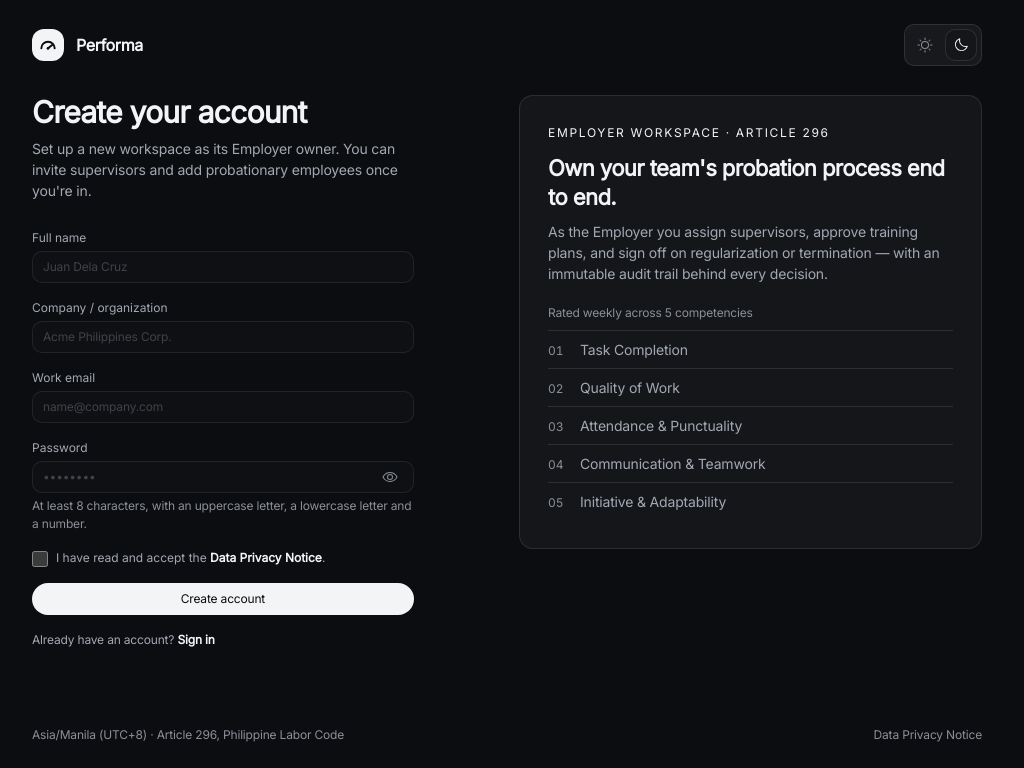
Test: Register › shows an alert when registration is rejected
Type "Nadia Founder" into the field labelled "Full name" at (223, 267), box [32, 251, 414, 283]
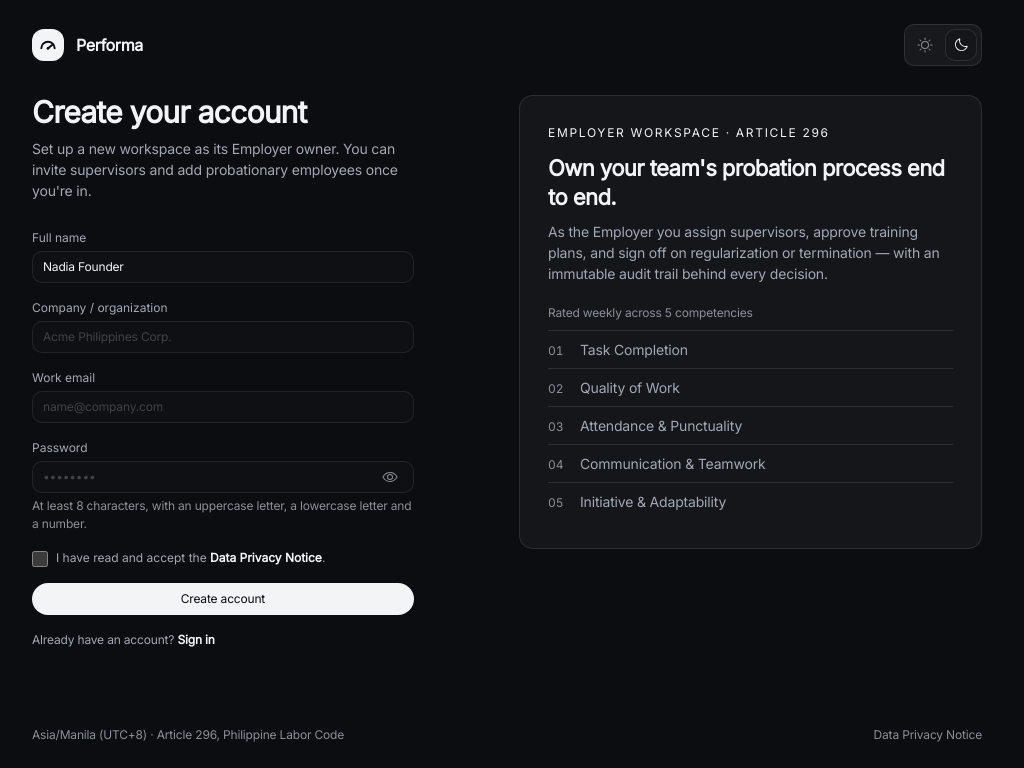
Type "Bright Co." into the field labelled "Company / organization" at (223, 337), box [32, 321, 414, 353]
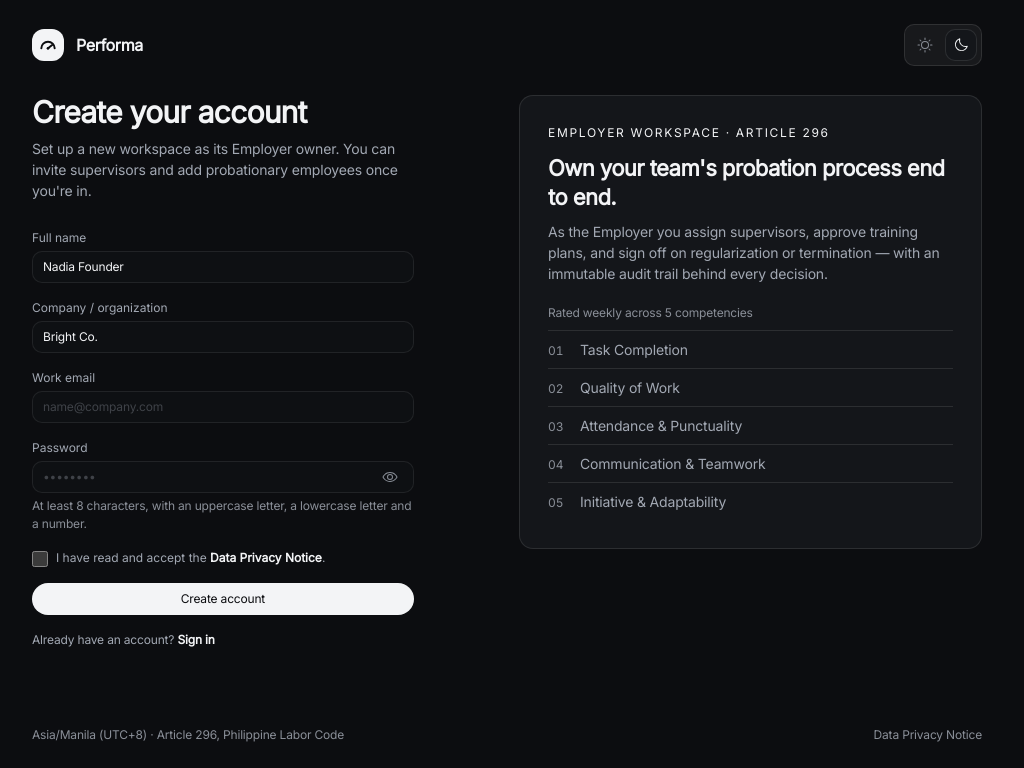
Type "nadia@bright.test" into the field labelled "Work email" at (223, 407), box [32, 391, 414, 423]
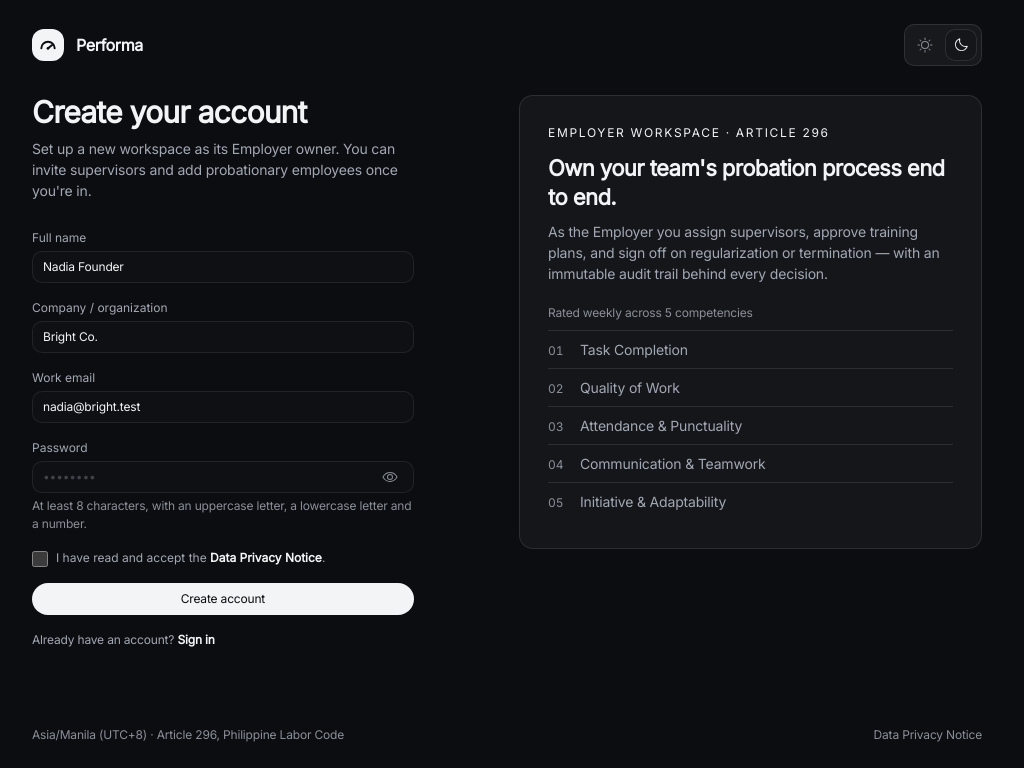
Type "Password123!" into the password field labelled "Password" at (223, 477), box [32, 461, 414, 493]
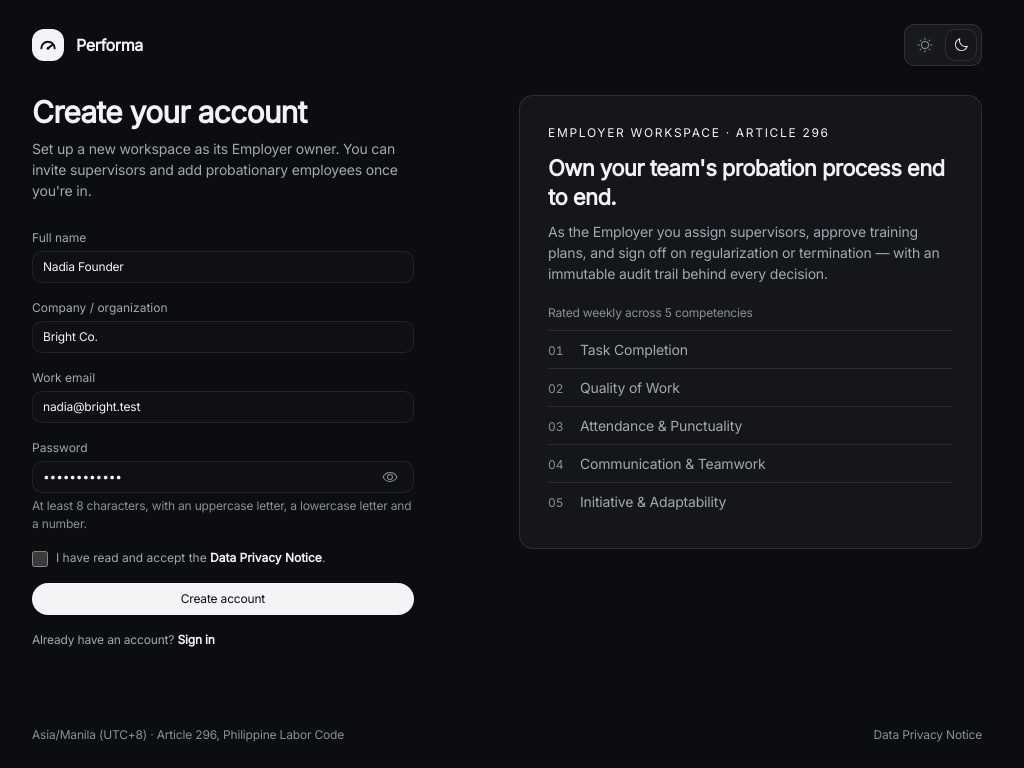
Click the checkbox at (40, 559), box [32, 551, 48, 567]
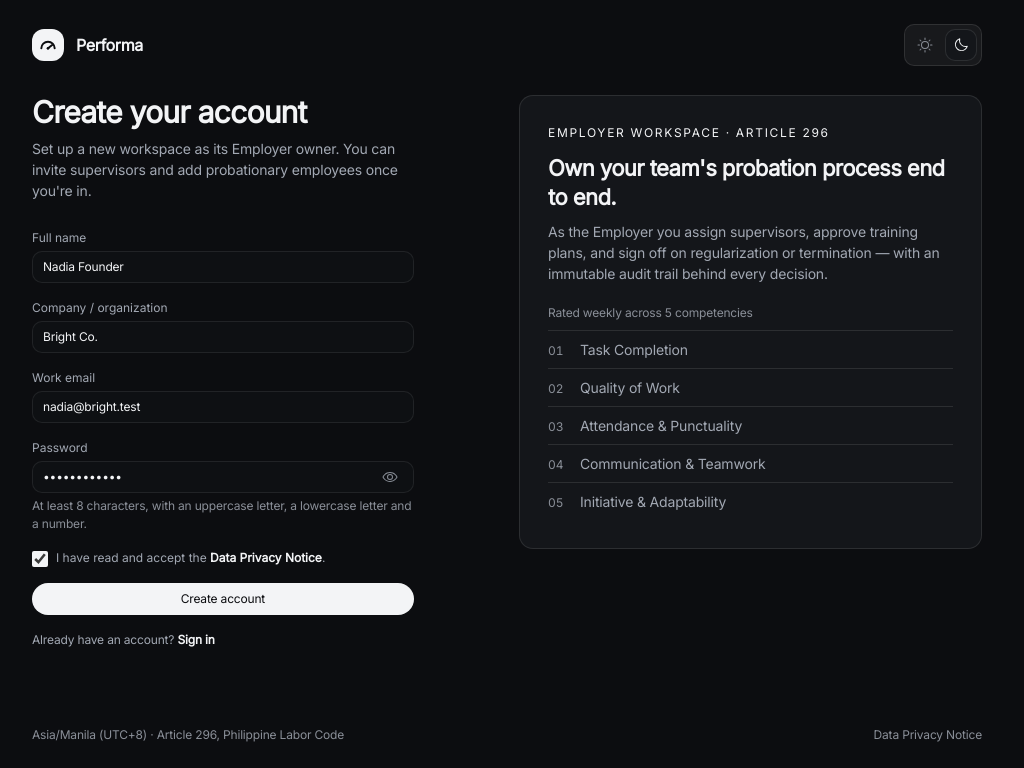
Click the button "Create account" at (223, 599), box [32, 583, 414, 615]
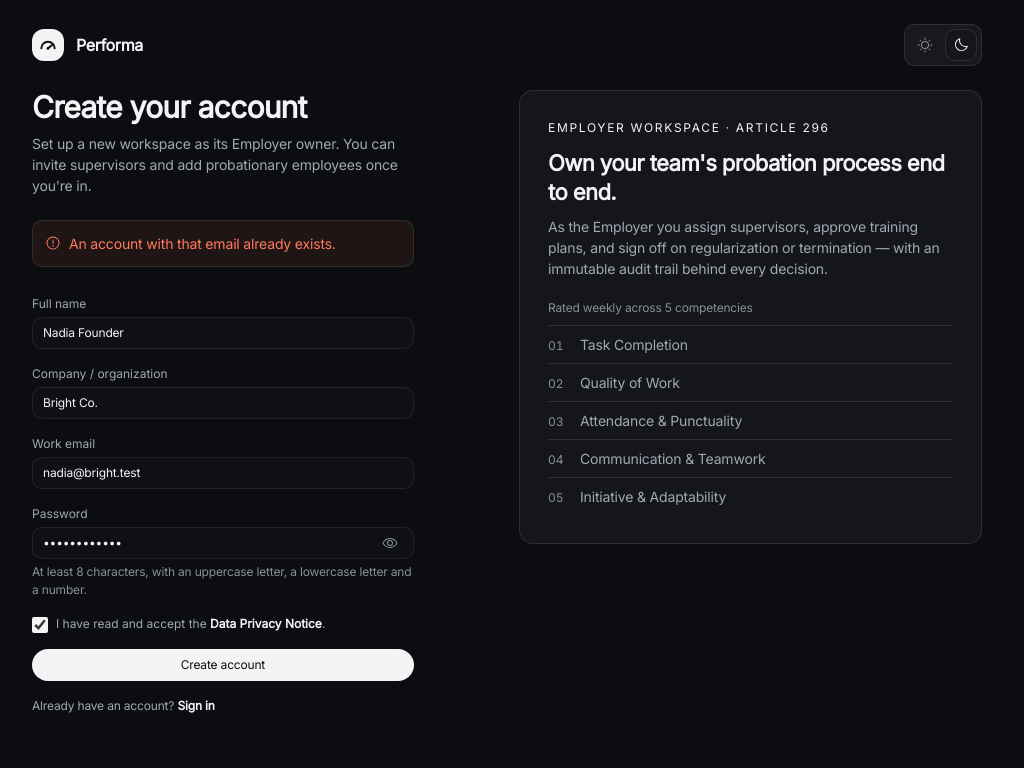
Expected: the message reads "An account with that email already exists.", [69, 234, 336, 252]
